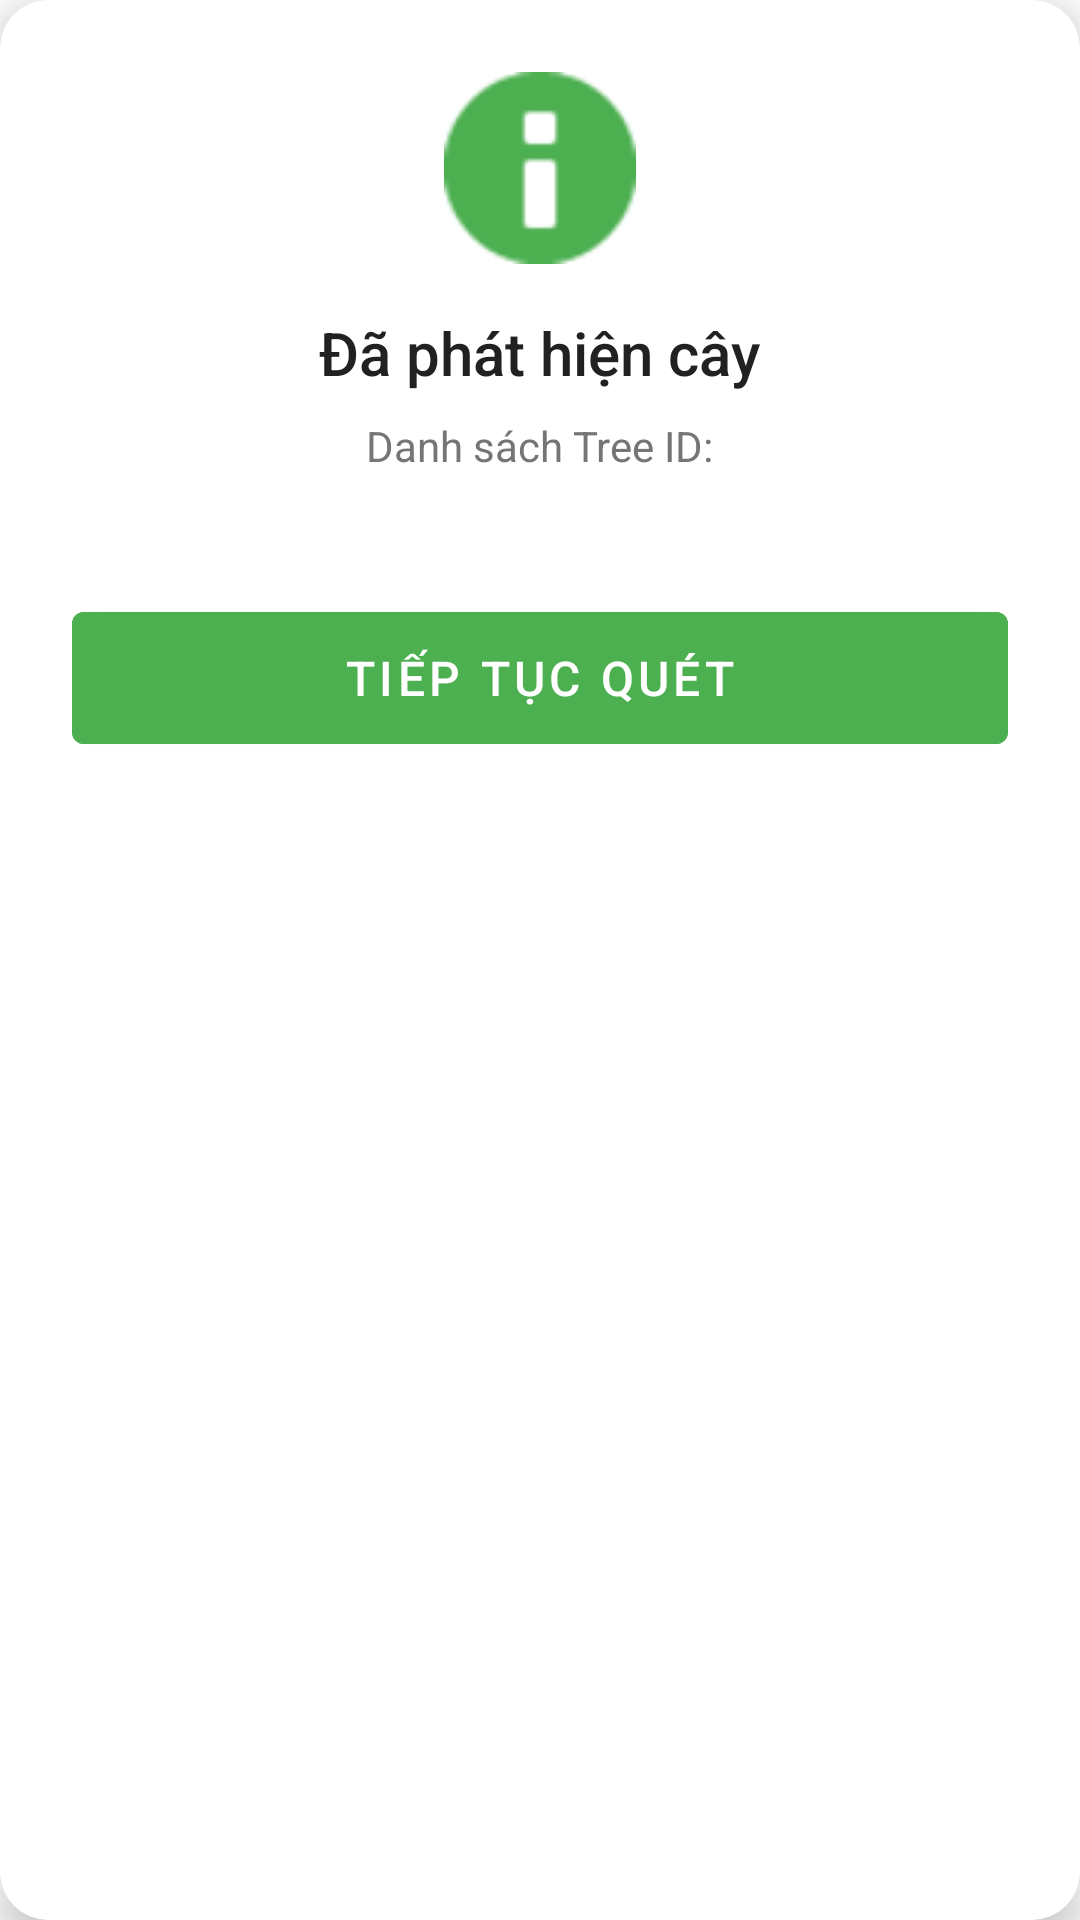

Icon bounding boxes for this 1080 x 1920 phone screenshot, format bbox=(x1, y1, x2, y2):
info: bbox=(444, 72, 636, 264)
